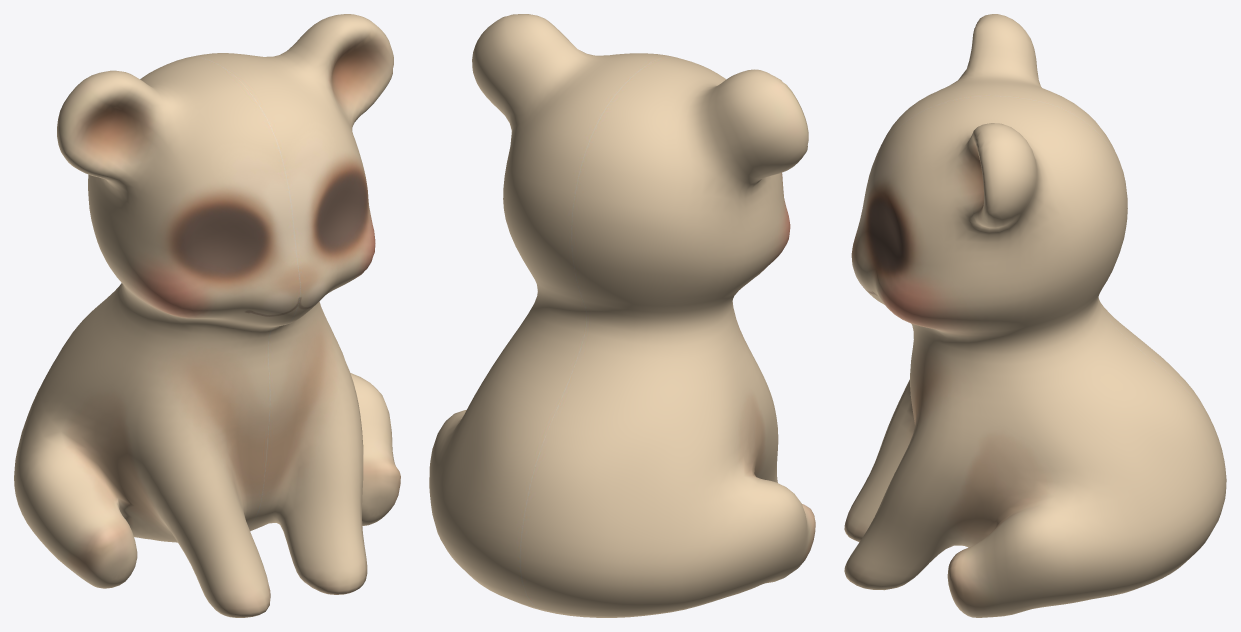
Rendered from Lion.fbx.
The picture shows the model from 3 angles, left to right: view 1: azimuth 30°, elevation 25°; view 2: azimuth 150°, elevation 25°; view 3: azimuth 270°, elevation 25°; orthographic projection. The views are drawn at different scales.
Parts seen in each view (by area): view 1: Body; view 2: Body; view 3: Body.
Part boxes in pixels (<box>): Body: <box>14,14,400,617</box>; Body: <box>429,14,815,617</box>; Body: <box>844,14,1226,617</box>.
Bounding box in the file's own units: 0.5425 × 0.7434 × 0.5266.
Materials: 1 (1 with a texture image).
